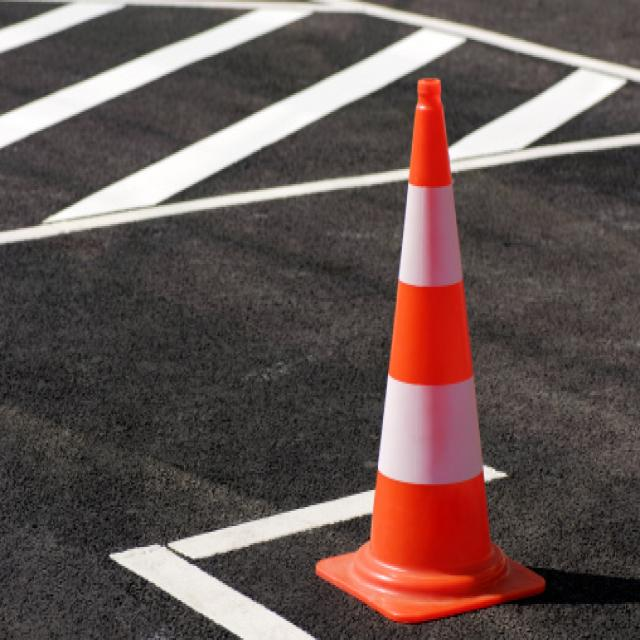cone: (310, 74, 549, 621)
